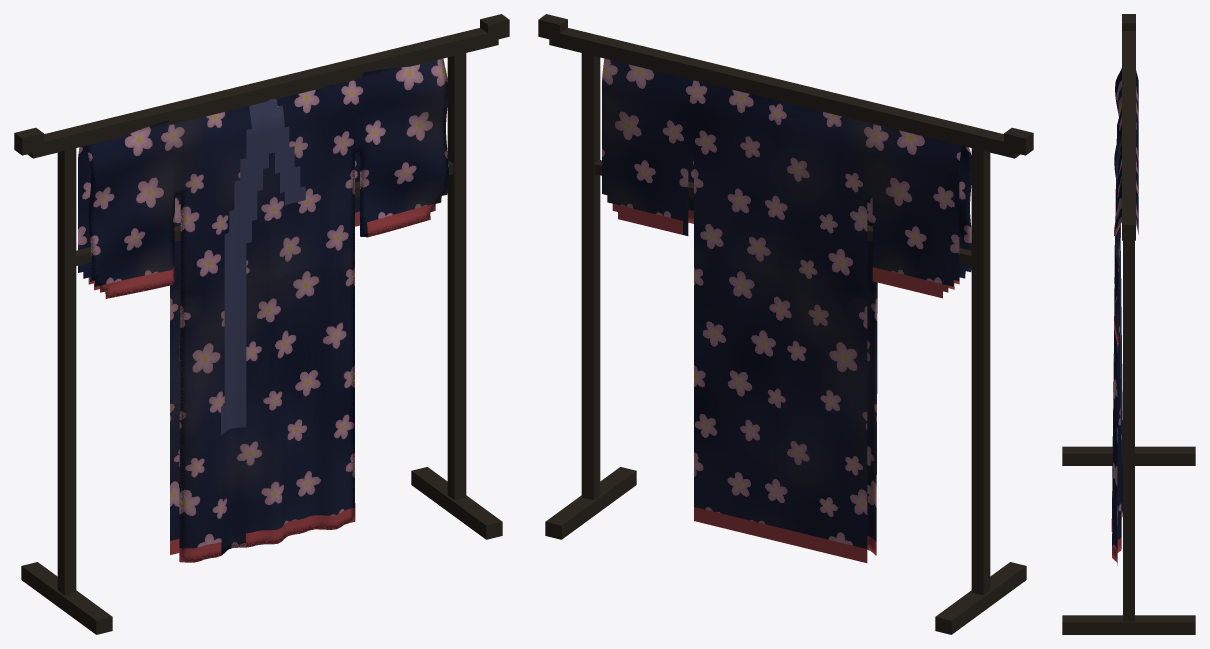
The model's file is Ikou_Kimono.gltf.
The picture shows the model from 3 angles, left to right: view 1: azimuth 30°, elevation 25°; view 2: azimuth 150°, elevation 25°; view 3: azimuth 270°, elevation 25°; orthographic projection. The views are drawn at different scales.
Parts seen in each view (by area): view 1: A_Ikou_Kimono; view 2: A_Ikou_Kimono; view 3: A_Ikou_Kimono.
Boxes of the visible parts, box(x1,y1,x2,y2) form: A_Ikou_Kimono: box(14, 14, 509, 634); A_Ikou_Kimono: box(538, 14, 1033, 634); A_Ikou_Kimono: box(1062, 14, 1195, 634).
Size of the model in its own units: 1.8 by 1.7 by 0.48.
4 materials, 1 textured.
